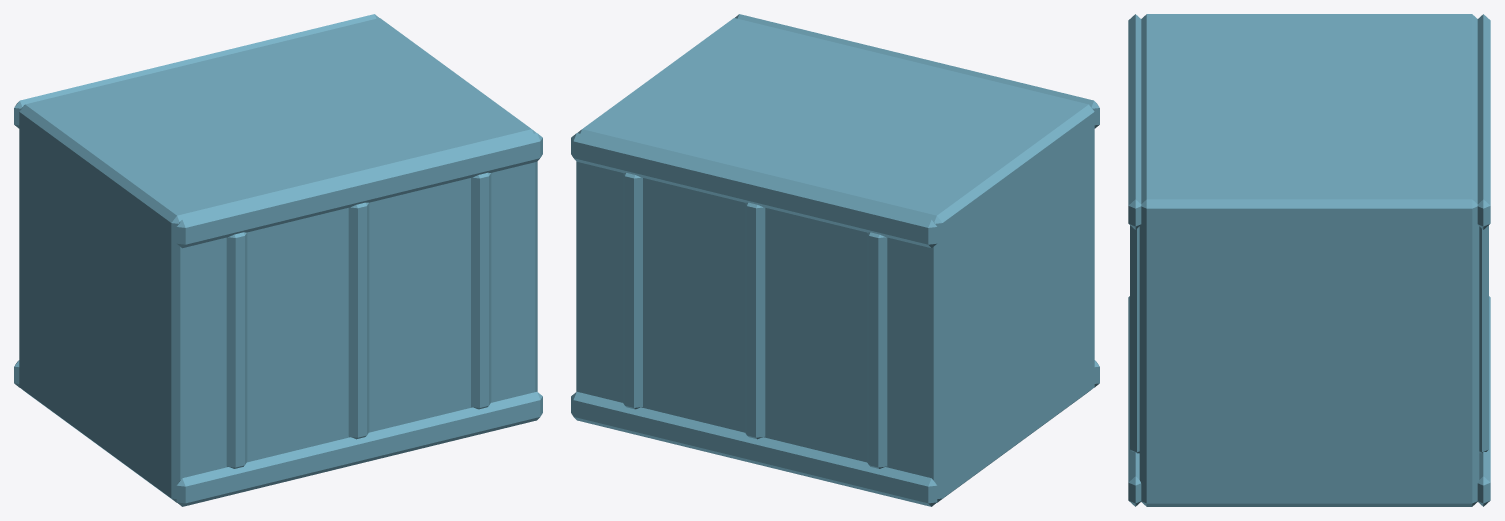
The model's file is SM_Container_1p6x1p2x1p2.glb.
The picture shows the model from 3 angles, left to right: view 1: azimuth 30°, elevation 25°; view 2: azimuth 150°, elevation 25°; view 3: azimuth 270°, elevation 25°; orthographic projection. The views are drawn at different scales.
Visible parts, largest first — view 1: SM_Container_1p6x1p2x1p2; view 2: SM_Container_1p6x1p2x1p2; view 3: SM_Container_1p6x1p2x1p2.
Part boxes in pixels (<box>): SM_Container_1p6x1p2x1p2: <box>14,14,542,506</box>; SM_Container_1p6x1p2x1p2: <box>571,14,1099,506</box>; SM_Container_1p6x1p2x1p2: <box>1128,14,1490,506</box>.
Size of the model in its own units: 1.6 by 1.2 by 1.28.
